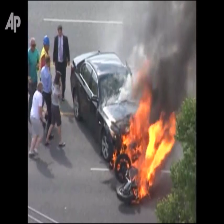fire_h: (120, 61, 177, 197)
fire_l: (109, 149, 117, 169), (117, 158, 130, 170)
